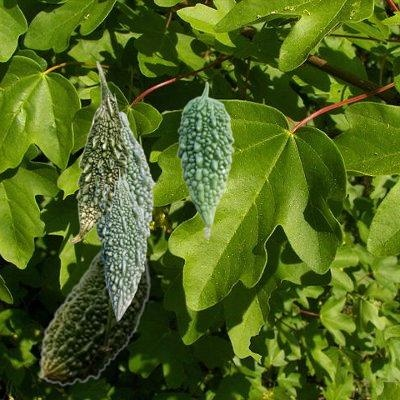ampalaya: (39, 244, 150, 385), (96, 93, 154, 303), (68, 60, 129, 242), (176, 81, 233, 239), (103, 166, 147, 320)
